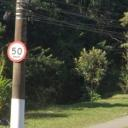speed_limit_50: (7, 41, 28, 63)
